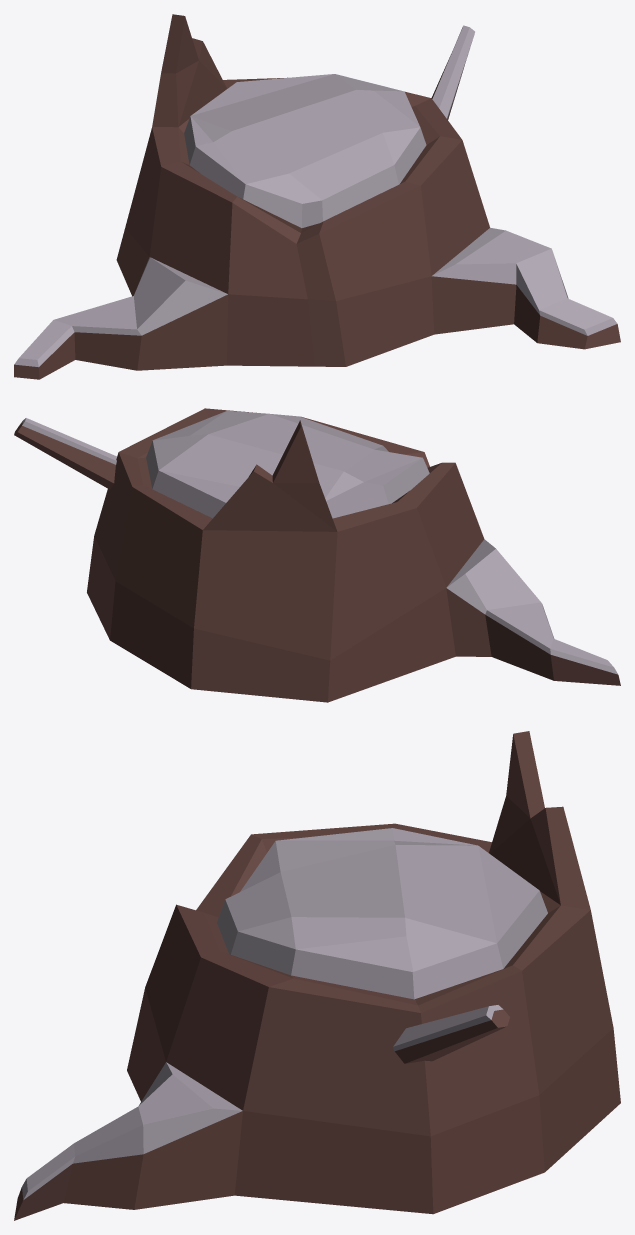
File: TreeStump_Snow.gltf
The picture shows the model from 3 angles, top to bottom: view 1: azimuth 30°, elevation 25°; view 2: azimuth 150°, elevation 25°; view 3: azimuth 270°, elevation 25°; orthographic projection. The views are drawn at different scales.
Visible parts, largest first — view 1: TreeStump_Snow; view 2: TreeStump_Snow; view 3: TreeStump_Snow.
Boxes of the visible parts, <box> form: TreeStump_Snow: <box>14,14,620,379</box>; TreeStump_Snow: <box>14,408,620,702</box>; TreeStump_Snow: <box>14,731,620,1220</box>.
Bounding box in the file's own units: 1.36 × 0.6216 × 1.03.
